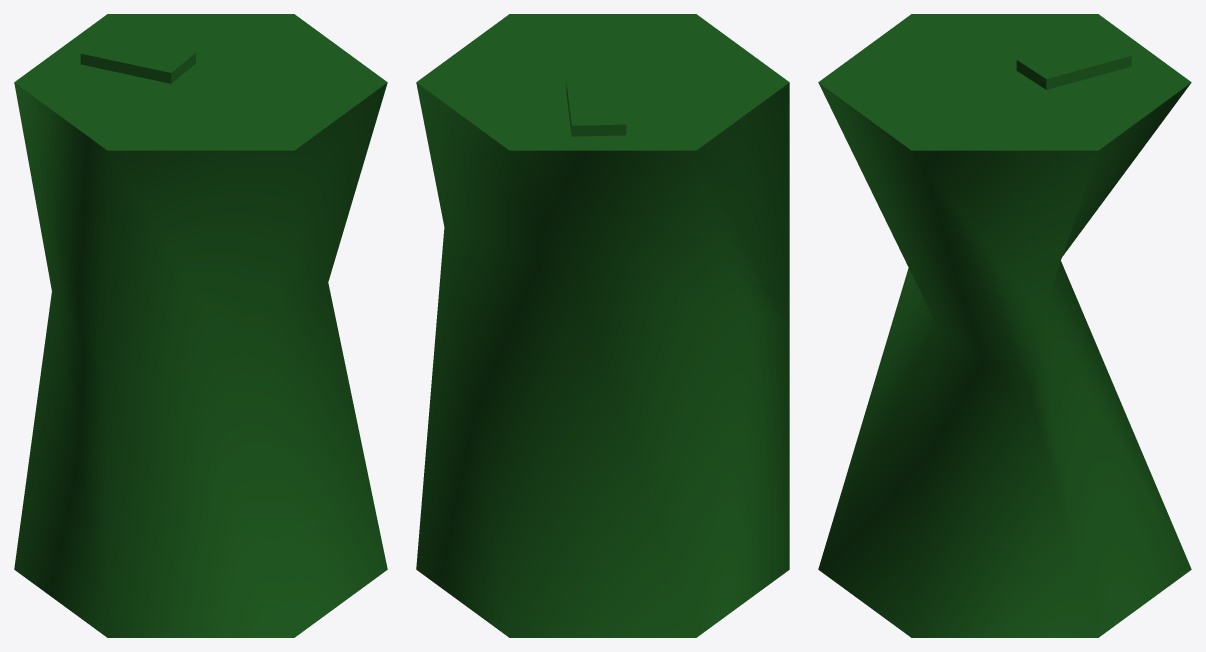
Rendered from ThrashSoda1.fbx.
The picture shows the model from 3 angles, left to right: view 1: azimuth 30°, elevation 25°; view 2: azimuth 150°, elevation 25°; view 3: azimuth 270°, elevation 25°; orthographic projection.
Parts seen in each view (by area): view 1: Can1.011; view 2: Can1.011; view 3: Can1.011.
Part boxes in pixels (box(x1,y1,x2,y2)): Can1.011: box(14, 14, 387, 637); Can1.011: box(416, 14, 789, 637); Can1.011: box(818, 14, 1191, 637).
Bounding box in the file's own units: 28.7 × 48.76 × 33.14.
